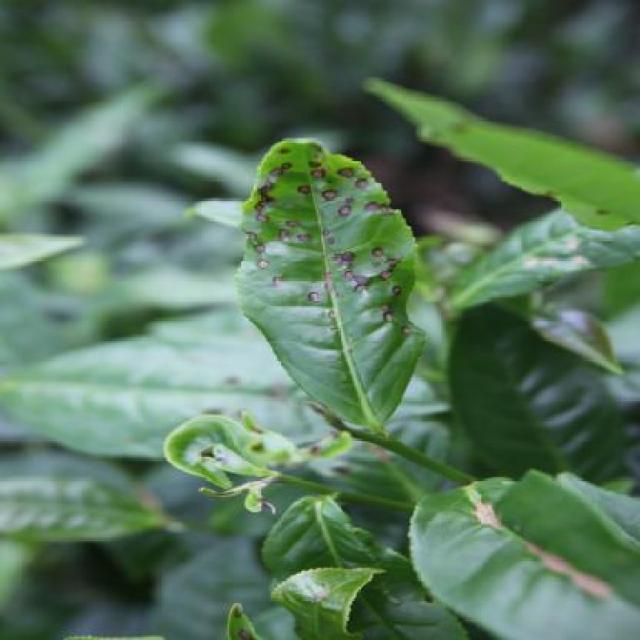Tea Mosquito bug infested leaf: (242, 134, 428, 451)
